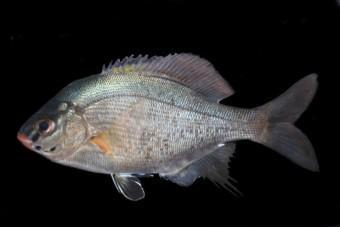fish: (15, 53, 319, 204)
